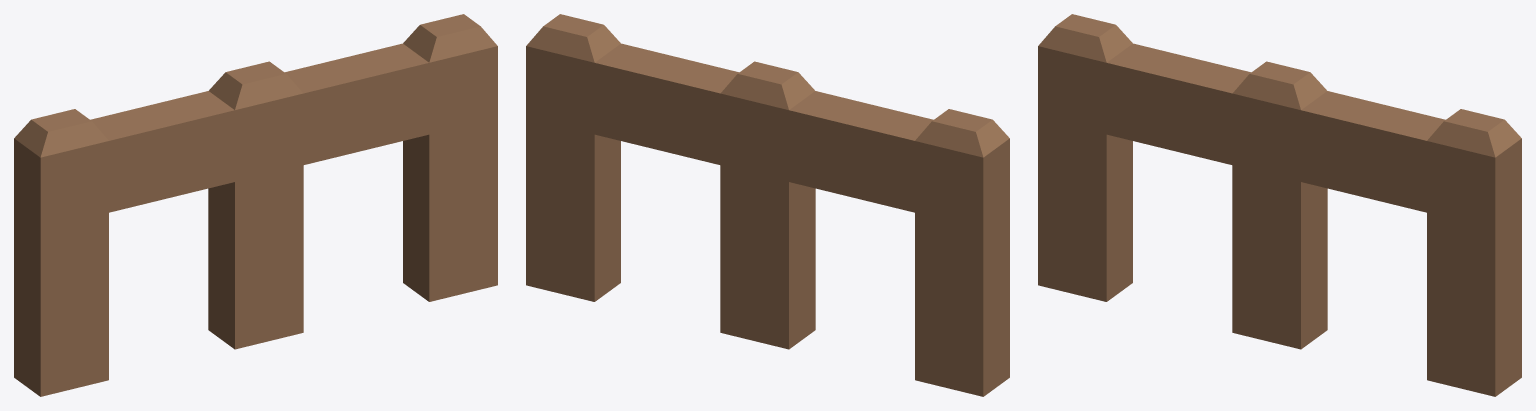
The model's file is railing.fbx.
The picture shows the model from 3 angles, left to right: view 1: azimuth 30°, elevation 25°; view 2: azimuth 150°, elevation 25°; view 3: azimuth 330°, elevation 25°; orthographic projection.
Visible parts, largest first — view 1: Cube; view 2: Cube; view 3: Cube.
Boxes of the visible parts, x1,y1,x2,y2 form: Cube: (14,14,497,396); Cube: (526,14,1009,396); Cube: (1038,14,1521,396).
Bounding box in the file's own units: 2 × 1.08 × 0.2.
